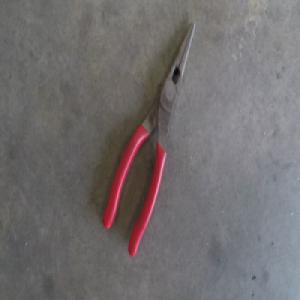Pliers: (104, 20, 195, 253)
